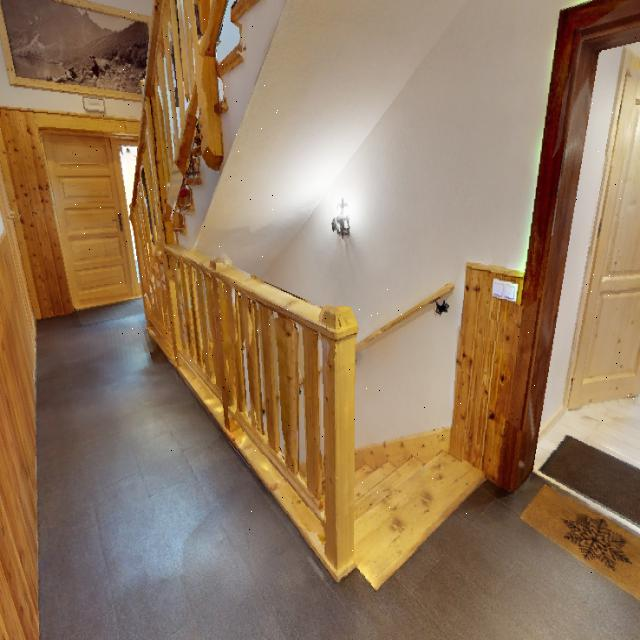door: (574, 71, 640, 422), (43, 134, 135, 318)
door-frame: (509, 0, 640, 573)
stairs: (156, 254, 477, 552), (118, 0, 279, 335)
